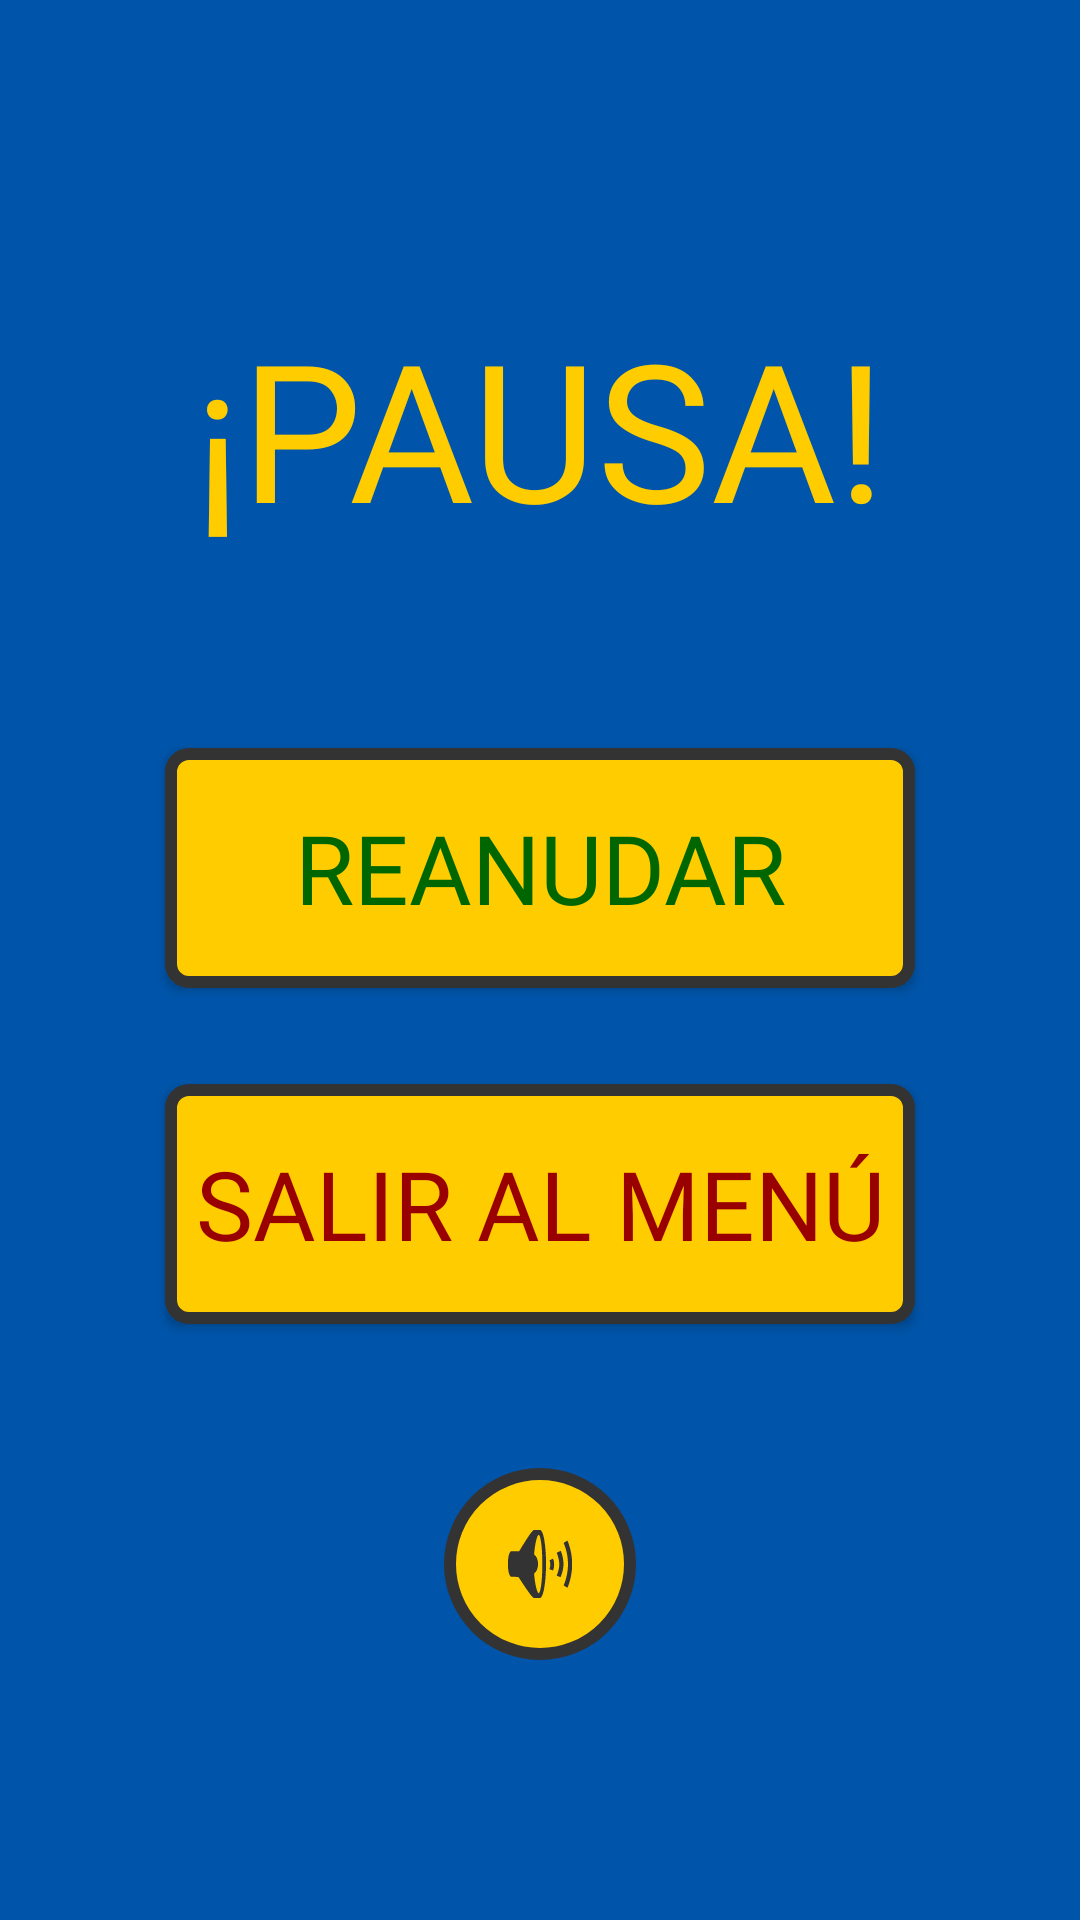

Named icons in this screenshot (1080w x 1920h) and their bounding boxes, box=[x1, y1, x2, y2]:
lock silent mode off: box=[444, 1468, 636, 1660]
